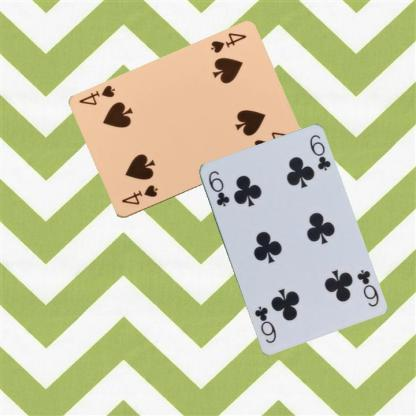4s: (118, 182, 159, 207), (208, 30, 248, 55)
6c: (354, 266, 380, 308), (205, 168, 231, 208)
